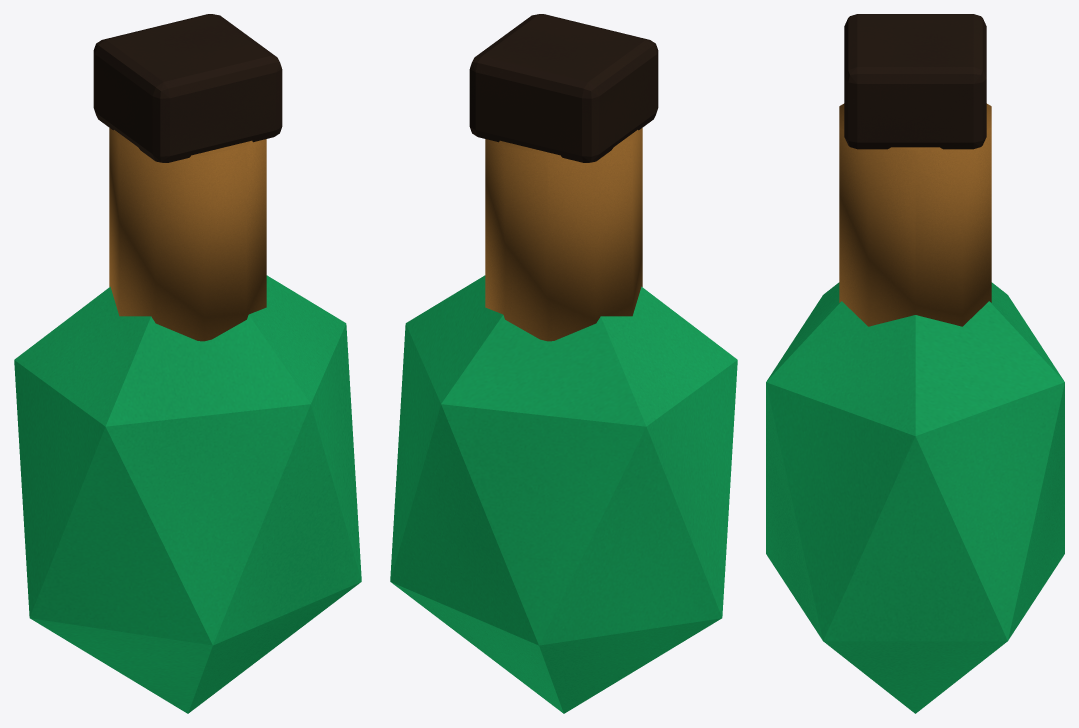
The model's file is Kit_PoisonFlask.fbx.
3 renders of one model, left to right at view 1: azimuth 30°, elevation 25°; view 2: azimuth 150°, elevation 25°; view 3: azimuth 270°, elevation 25°, orthographic.
Parts seen in each view (by area): view 1: Kit_PoisonFlask_Jade, Kit_PoisonFlask_Gold, Kit_PoisonFlask_Wood; view 2: Kit_PoisonFlask_Jade, Kit_PoisonFlask_Gold, Kit_PoisonFlask_Wood; view 3: Kit_PoisonFlask_Jade, Kit_PoisonFlask_Gold, Kit_PoisonFlask_Wood.
Part boxes in pixels (x1,y1,x2,y2): Kit_PoisonFlask_Jade: (14, 275, 361, 713); Kit_PoisonFlask_Gold: (109, 128, 266, 341); Kit_PoisonFlask_Wood: (93, 14, 282, 162); Kit_PoisonFlask_Jade: (390, 275, 737, 713); Kit_PoisonFlask_Gold: (485, 128, 642, 341); Kit_PoisonFlask_Wood: (469, 14, 658, 162); Kit_PoisonFlask_Jade: (766, 282, 1064, 713); Kit_PoisonFlask_Gold: (839, 103, 991, 326); Kit_PoisonFlask_Wood: (844, 14, 986, 149).
Bounding box in the file's own units: 0.1431 × 0.2875 × 0.1157.
